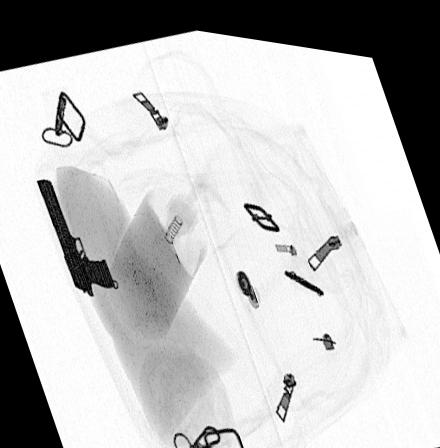Gun: (36, 175, 116, 292)
